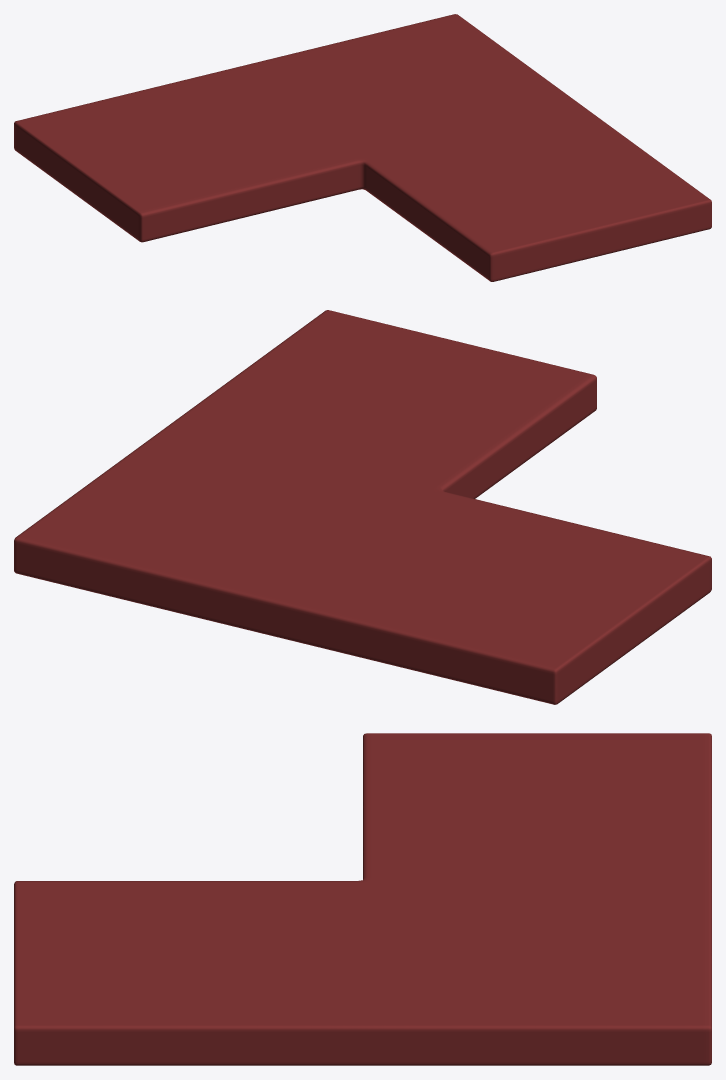
Rendered from CourtyardWalkwayCorner.fbx.
3 views of the same model, one above another, from view 1: azimuth 30°, elevation 25°; view 2: azimuth 150°, elevation 25°; view 3: azimuth 270°, elevation 25° (orthographic). The views are drawn at different scales.
Parts seen in each view (by area): view 1: CourtyardWWCorner_High; view 2: CourtyardWWCorner_High; view 3: CourtyardWWCorner_High.
Part boxes in pixels (<box>): CourtyardWWCorner_High: <box>14,14,711,281</box>; CourtyardWWCorner_High: <box>14,310,711,704</box>; CourtyardWWCorner_High: <box>14,733,711,1065</box>.
Bounding box in the file's own units: 8 × 0.5 × 8.
